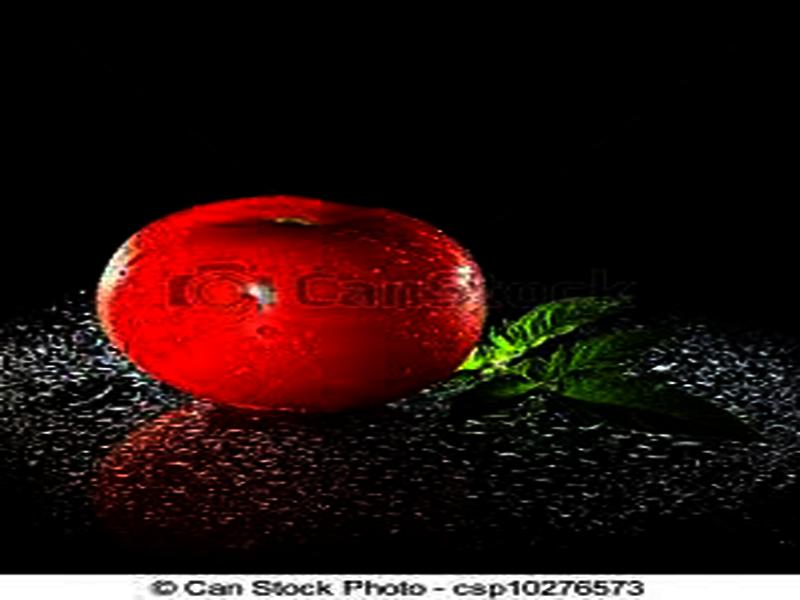Tomato: (96, 194, 486, 410)
